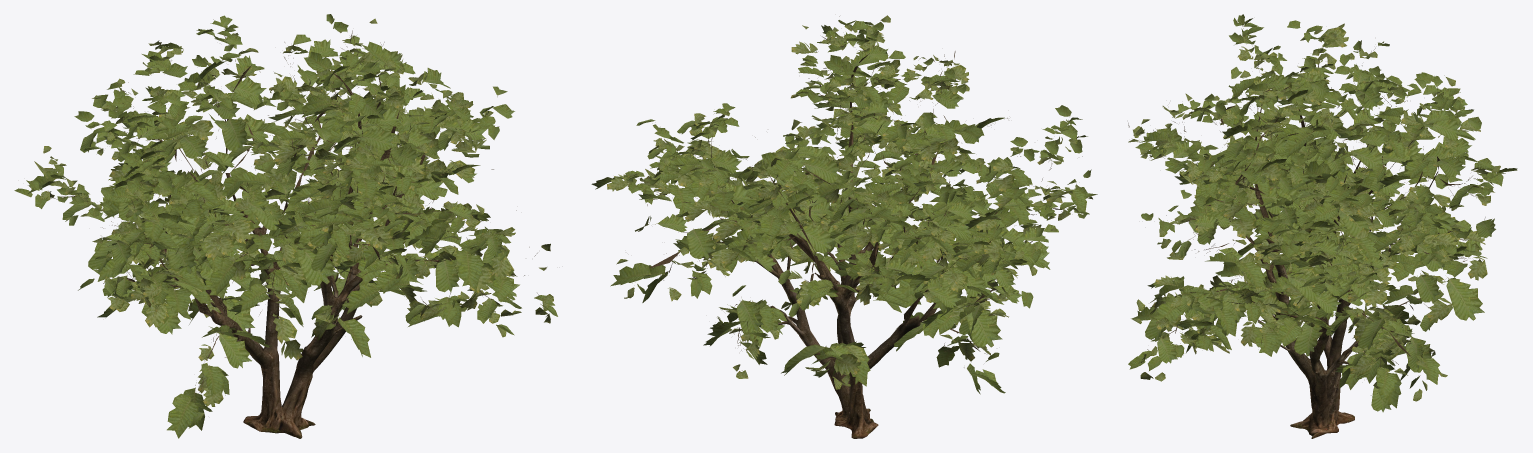
File: jac-medio.glb
The picture shows the model from 3 angles, left to right: view 1: azimuth 30°, elevation 25°; view 2: azimuth 150°, elevation 25°; view 3: azimuth 270°, elevation 25°; orthographic projection. The views are drawn at different scales.
Parts seen in each view (by area): view 1: jacaranda_tree_leaves, jacaranda_tree_trunk, jacaranda_tree_branches; view 2: jacaranda_tree_leaves, jacaranda_tree_trunk, jacaranda_tree_branches; view 3: jacaranda_tree_leaves, jacaranda_tree_trunk, jacaranda_tree_branches.
Boxes of the visible parts, x1,y1,x2,y2 form: jacaranda_tree_leaves: [14, 14, 557, 438]; jacaranda_tree_trunk: [210, 211, 362, 438]; jacaranda_tree_branches: [50, 19, 539, 393]; jacaranda_tree_leaves: [591, 15, 1097, 394]; jacaranda_tree_trunk: [754, 204, 920, 438]; jacaranda_tree_branches: [649, 16, 1082, 370]; jacaranda_tree_leaves: [1128, 14, 1517, 412]; jacaranda_tree_trunk: [1258, 238, 1387, 438]; jacaranda_tree_branches: [1128, 25, 1485, 379].
Size of the model in its own units: 24.36 by 19.53 by 18.36.
3 materials, 3 textured.
